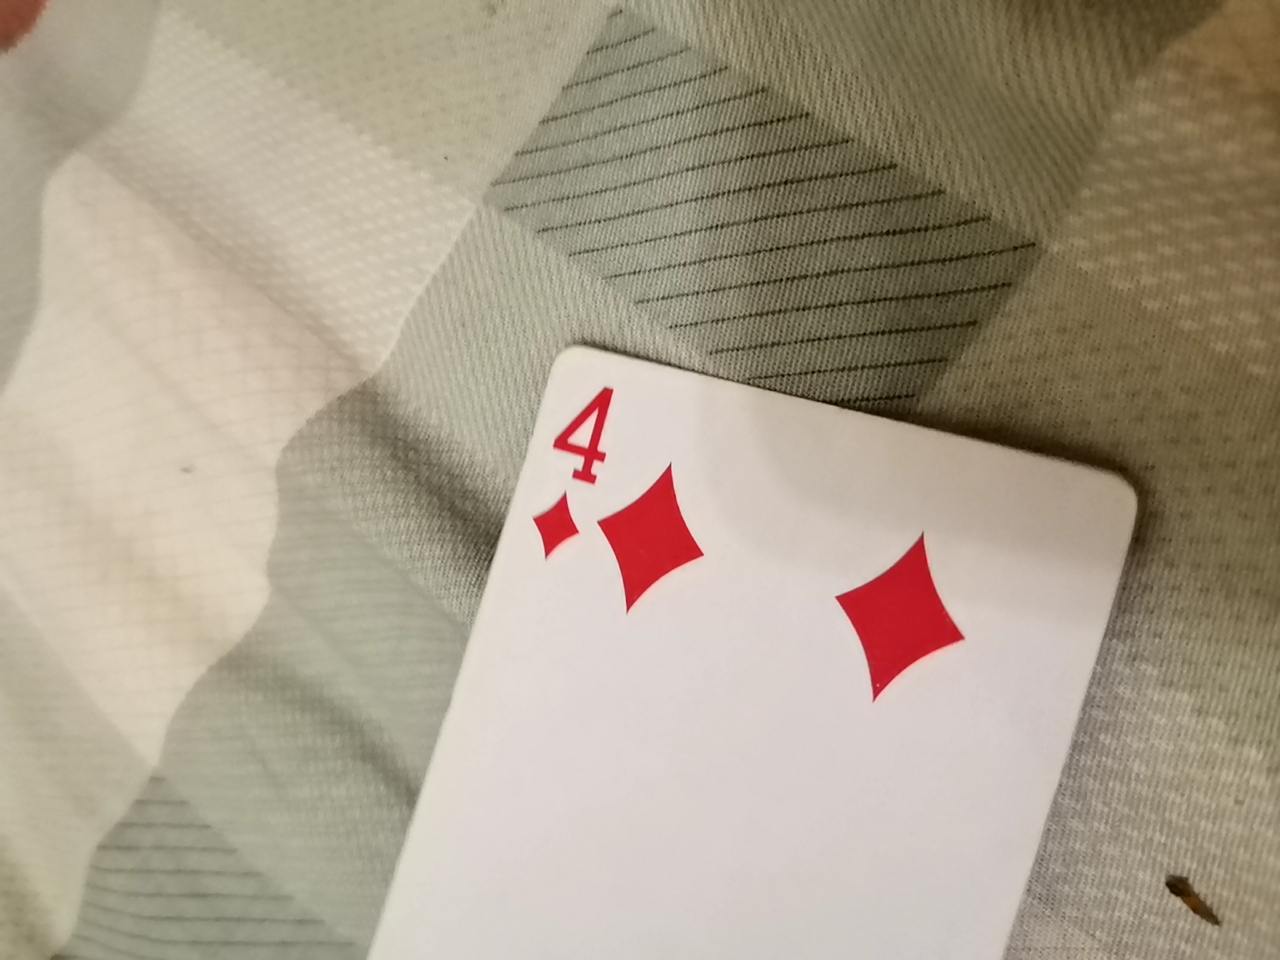fk 4: (252, 320, 1109, 956)
